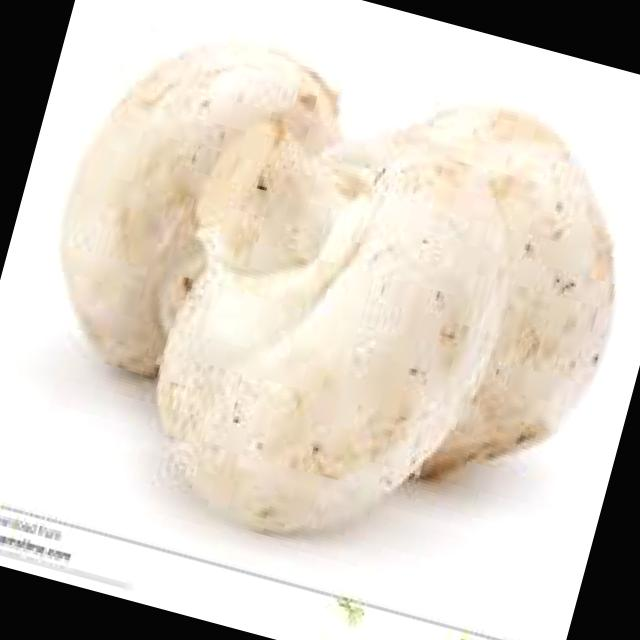Agaricus bisporus: (128, 101, 536, 574), (26, 6, 365, 416)
